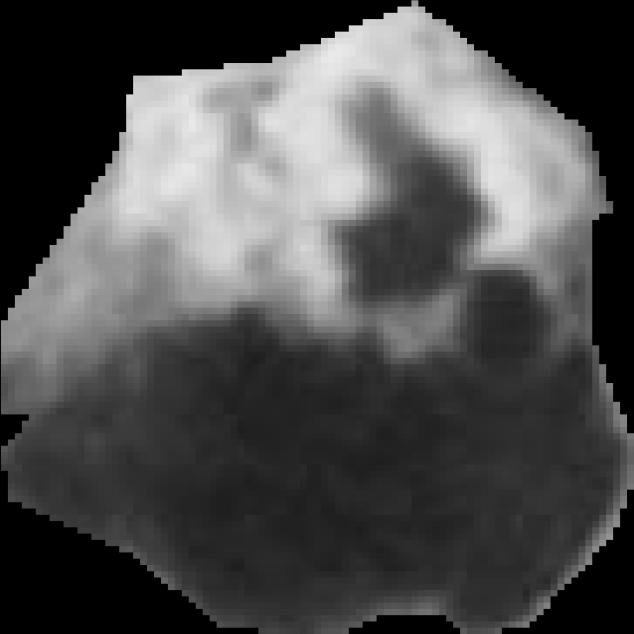tumor_moderate_chance: (1, 0, 634, 634)
